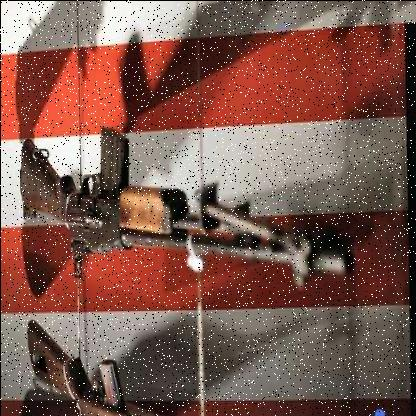rifle: (15, 106, 362, 299)
